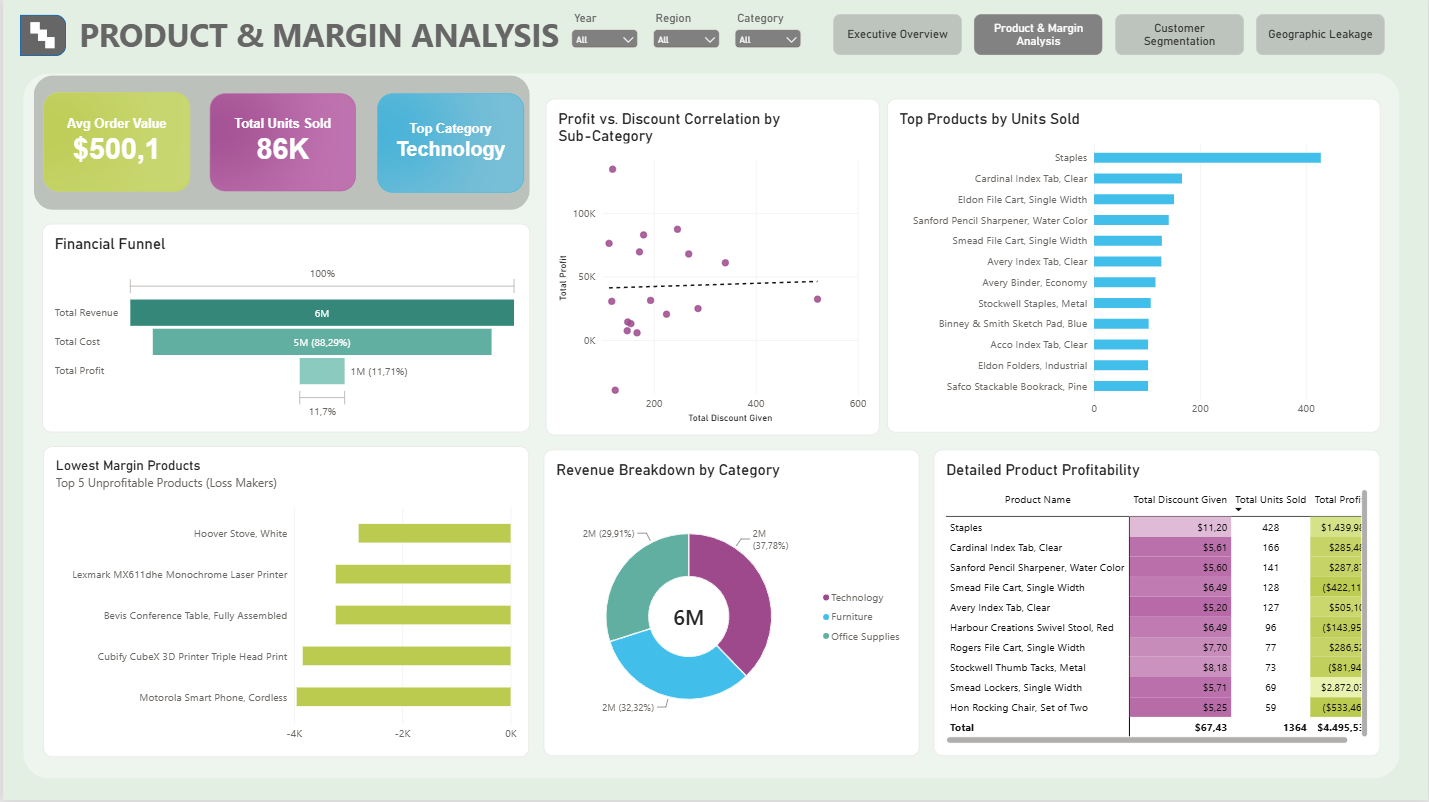

What the dashboard file says about the page in this screenshot:
{"tool":"powerbi","page":{"name":"Product & Margin Analysis","canvas":[1920,1080],"ordinal":1},"visuals":[{"type":"shape","box":[27,99.9,1855.1,950.5],"z":0},{"type":"shape","box":[42.1,102.6,668.4,181.6],"z":1000},{"type":"scatterChart","title":"Profit vs. Discount Correlation by Sub-Category","fields":{"Category":["dim_product.sub_category"],"X":["fact_sales.Total Discount Given"],"Y":["fact_sales.Total Profit"]},"box":[731.6,134.2,449.6,453.7],"z":2000},{"type":"donutChart","title":"Revenue Breakdown by Category","fields":{"Category":["dim_product.category"],"Y":["fact_sales.Total Revenue"]},"box":[729.1,607.6,506.3,413.1],"z":3000},{"type":"clusteredBarChart","title":"Top Products by Units Sold","fields":{"Category":["dim_product.product_name"],"Y":["fact_sales.Total Units Sold"]},"box":[1192.1,134.2,665,449.6],"z":4000},{"type":"cardVisual","fields":{"Data":["fact_sales.Total Units Sold"]},"box":[278.1,126.9,197.1,132.3],"z":5000},{"type":"cardVisual","fields":{"Data":["fact_sales.Top Category"]},"box":[505,126.9,198.5,133.7],"z":6000},{"type":"pivotTable","title":"Detailed Product Profitability","fields":{"Rows":["dim_product.product_name"],"Values":["fact_sales.Total Discount Given","fact_sales.Total Units Sold","fact_sales.Total Profit"]},"box":[1254.3,607.6,602.2,413.1],"z":7000},{"type":"clusteredBarChart","title":"Lowest Margin Products","fields":{"Category":["dim_product.product_name"],"Y":["fact_sales.Total Profit"]},"box":[54,602.2,654.8,418.5],"z":8000},{"type":"funnel","title":"Financial Funnel","fields":{"Y":["fact_sales.Total Revenue","dim_customer.Total Cost","fact_sales.Total Profit"]},"box":[52.6,302.6,657.9,281.6],"z":9000},{"type":"cardVisual","fields":{"Data":["fact_sales.Avg Order Value"]},"box":[54,125.6,198,134],"z":10000},{"type":"shape","box":[23,21.6,62.1,55.4],"z":11000},{"type":"textbox","box":[103,18.7,658.8,71.8],"z":12000},{"type":"slicer","fields":{"Values":["dim_date.date_key.Variation.Date Hierarchy.Year"]},"box":[761.5,17.6,98.9,71.9],"z":13000},{"type":"slicer","fields":{"Values":["dim_location.region"]},"box":[870.9,17.6,98.9,71.9],"z":14000},{"type":"slicer","fields":{"Values":["dim_product.category"]},"box":[981.6,17.6,98.9,71.9],"z":15000},{"type":"pageNavigator","box":[1117.9,20.3,748,56.7],"z":16000},{"type":"shape","box":[37.8,31.1,12.2,14.9],"z":17000},{"type":"shape","box":[47.8,41.1,12.2,14.9],"z":18000},{"type":"shape","box":[57.8,51.1,12.2,14.9],"z":19000}]}

Visuals, with their boxes in screenshot pixels (x1, y1, x2, y2), scaled from the page's 1920x1080 canvas onto the 1429x802 screenshot:
shape: x1=20, y1=74, x2=1401, y2=780
shape: x1=31, y1=76, x2=529, y2=211
"Profit vs. Discount Correlation by Sub-Category" scatterChart: x1=545, y1=100, x2=879, y2=437
"Revenue Breakdown by Category" donutChart: x1=543, y1=451, x2=919, y2=758
"Top Products by Units Sold" clusteredBarChart: x1=887, y1=100, x2=1382, y2=434
cardVisual - fact_sales.Total Units Sold: x1=207, y1=94, x2=354, y2=192
cardVisual - fact_sales.Top Category: x1=376, y1=94, x2=524, y2=194
"Detailed Product Profitability" pivotTable: x1=934, y1=451, x2=1382, y2=758
"Lowest Margin Products" clusteredBarChart: x1=40, y1=447, x2=528, y2=758
"Financial Funnel" funnel: x1=39, y1=225, x2=529, y2=434
cardVisual - fact_sales.Avg Order Value: x1=40, y1=93, x2=188, y2=193
shape: x1=17, y1=16, x2=63, y2=57
textbox: x1=77, y1=14, x2=567, y2=67
slicer - dim_date.date_key.Variation.Date Hierarchy.Year: x1=567, y1=13, x2=640, y2=66
slicer - dim_location.region: x1=648, y1=13, x2=722, y2=66
slicer - dim_product.category: x1=731, y1=13, x2=804, y2=66
pageNavigator: x1=832, y1=15, x2=1389, y2=57
shape: x1=28, y1=23, x2=37, y2=34
shape: x1=36, y1=31, x2=45, y2=42
shape: x1=43, y1=38, x2=52, y2=49
